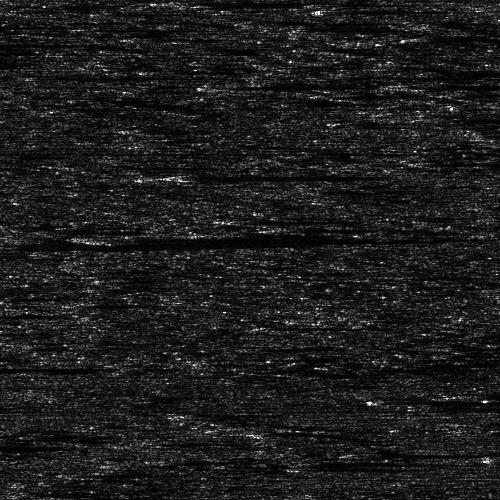rock: (59, 230, 132, 247), (276, 3, 359, 14), (156, 79, 219, 88), (156, 0, 197, 4)
shadow: (96, 230, 498, 247), (188, 79, 331, 88), (318, 3, 418, 14), (177, 0, 417, 4), (0, 366, 47, 371), (0, 314, 25, 323)
